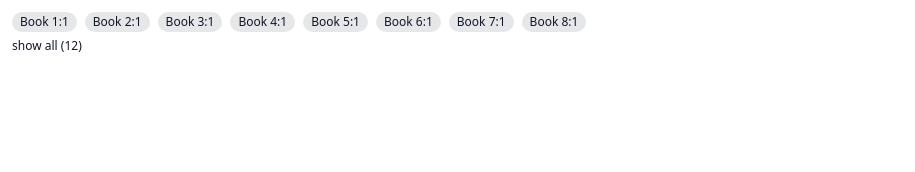
Test case: VideoEnrichment › reveals all refs after clicking show all
Step 1. Click the button "show all (12)" → (47, 46), box left=12, top=38, right=82, bottom=54
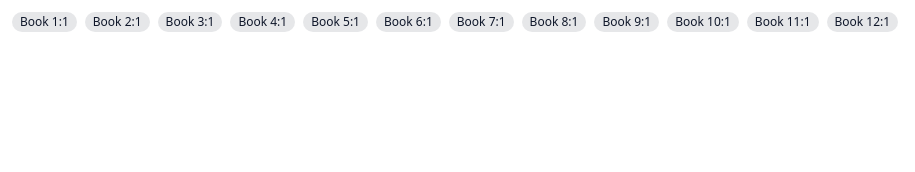
Expected: the link "Book 9:1" is shown, left=594, top=12, right=659, bottom=32
Expected: the link "Book 12:1" is shown, left=826, top=12, right=898, bottom=32
Expected: the button "show all" is gone
